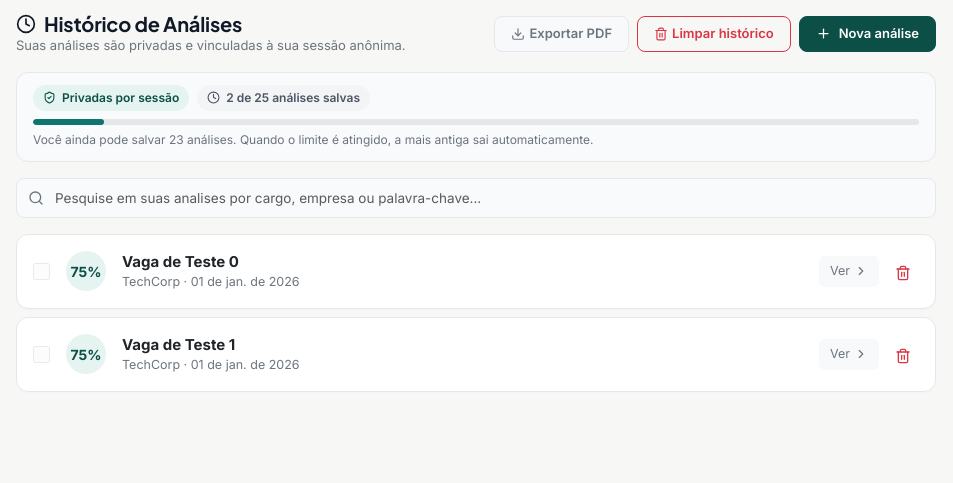
it: AnaliseList — exportar histórico em PDF › Cancelar sai do modo de seleção sem exportar
Expected: the text "Vaga de Teste 0" is shown, x1=122 y1=252 x2=239 y2=270
What coordinates should you click on to do the following:
click the button "Exportar PDF"
I would click on:
 (562, 34)
Its box is x1=494 y1=16 x2=629 y2=52.
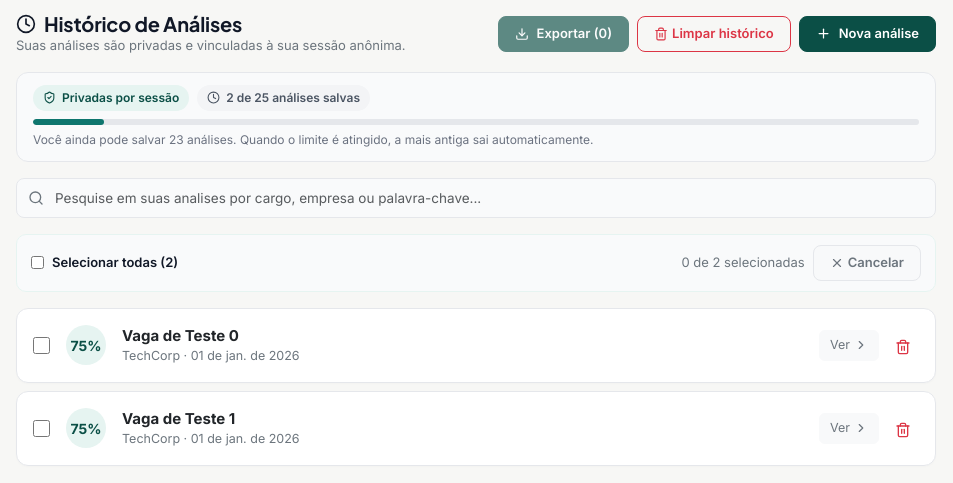
What coordinates should you click on to do the following:
click the checkbox named "Vaga de Teste 0"
I would click on:
 (42, 345)
Its box is x1=33 y1=337 x2=50 y2=354.
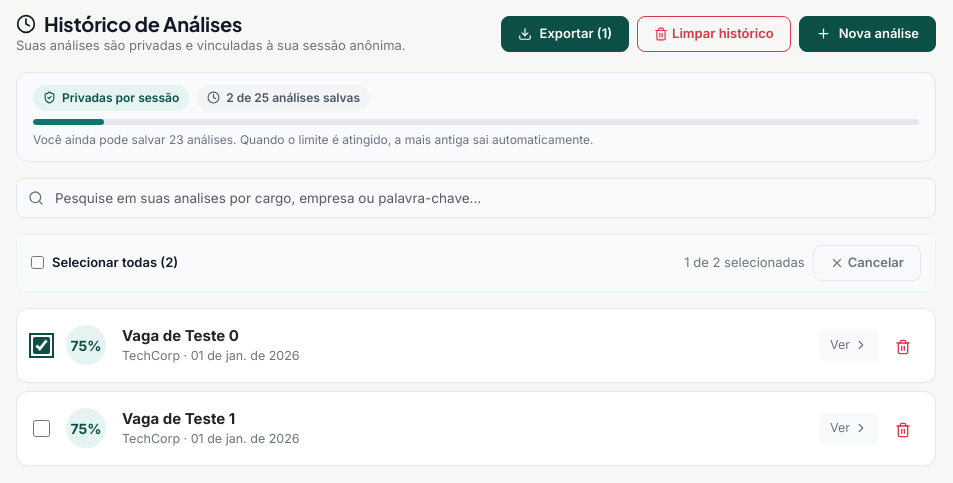
What coordinates should you click on to do the following:
click the button "Cancelar"
I would click on:
 (867, 262)
Its box is x1=813 y1=244 x2=921 y2=280.
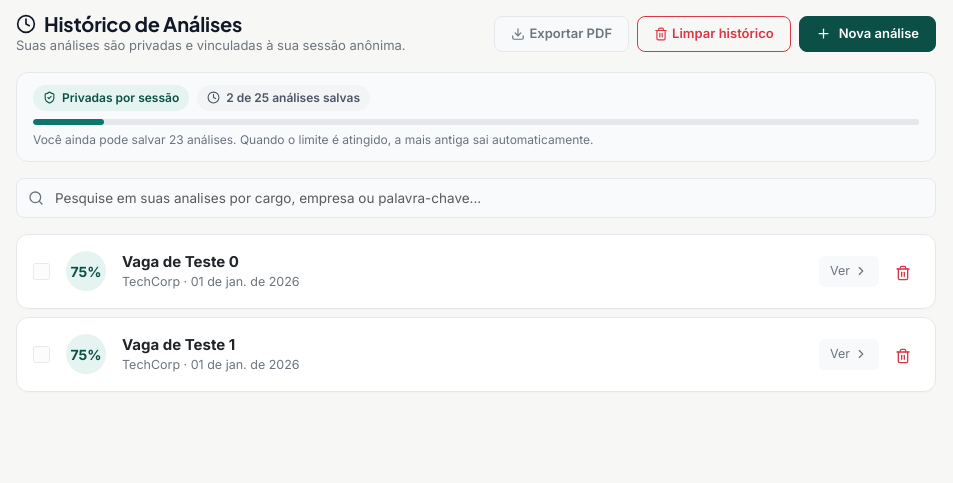
Expected: the button "Exportar PDF" is shown, x1=494 y1=16 x2=629 y2=52
